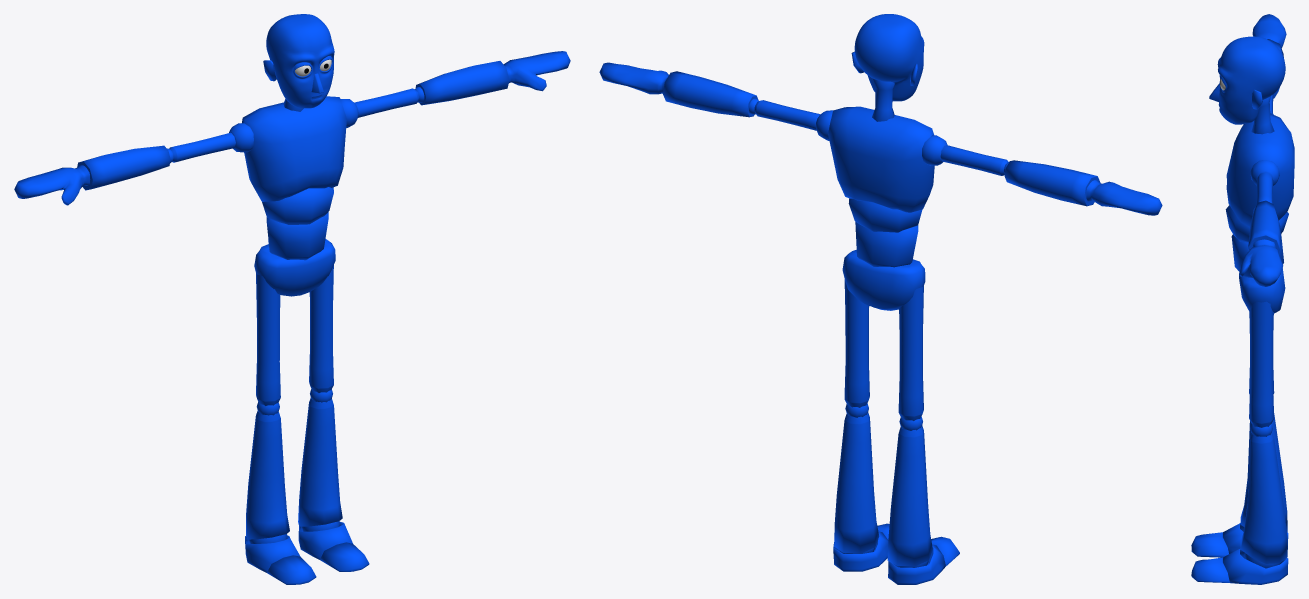
Rendered from NormanMittens.FBX.
The picture shows the model from 3 angles, left to right: view 1: azimuth 30°, elevation 25°; view 2: azimuth 150°, elevation 25°; view 3: azimuth 270°, elevation 25°; orthographic projection. The views are drawn at different scales.
Visible parts, largest first — view 1: srfBind_Cn_SpineC, srfBind_Cn_Head, srfBind_Lf_LegC, srfBind_Rt_LegC, srfBind_Rt_LegA, srfBind_Cn_Pelvis, srfBind_Lf_LegA, srfBind_Lf_ArmD, srfBind_Rt_ArmD, srfBind_Cn_SpineA, srfBind_Cn_SpineB, Hand_L001 (+7 smaller); view 2: srfBind_Cn_SpineC, srfBind_Lf_LegC, srfBind_Rt_LegC, srfBind_Cn_Head, srfBind_Cn_Pelvis, srfBind_Rt_LegA, srfBind_Lf_ArmD, srfBind_Lf_LegA, srfBind_Rt_ArmD, srfBind_Cn_SpineA, Hand_L001, srfBind_Cn_SpineB (+6 smaller); view 3: srfBind_Cn_SpineC, srfBind_Lf_LegC, srfBind_Cn_Head, srfBind_Lf_LegA, srfBind_Lf_FootA, Hand_L, srfBind_Lf_ArmD, srfBind_Cn_Pelvis, srfBind_Lf_FootB, srfBind_Lf_FootB 1, srfBind_Rt_LegC, Hand_L001 (+9 smaller).
Part boxes in pixels (x1,y1,x2,y2): srfBind_Cn_SpineC: (242, 96, 346, 201); srfBind_Cn_Head: (266, 14, 334, 108); srfBind_Lf_LegC: (298, 397, 342, 526); srfBind_Rt_LegC: (246, 411, 289, 539); srfBind_Rt_LegA: (256, 271, 280, 405); srfBind_Cn_Pelvis: (254, 239, 335, 296); srfBind_Lf_LegA: (309, 265, 333, 392); srfBind_Lf_ArmD: (415, 61, 509, 105); srfBind_Rt_ArmD: (77, 145, 170, 190); srfBind_Cn_SpineA: (266, 212, 328, 260); srfBind_Cn_SpineB: (262, 187, 333, 224); Hand_L001: (14, 165, 90, 205); srfBind_Cn_SpineC: (828, 106, 934, 212); srfBind_Lf_LegC: (834, 412, 879, 553); srfBind_Rt_LegC: (887, 425, 932, 566); srfBind_Cn_Head: (854, 14, 924, 101); srfBind_Cn_Pelvis: (842, 250, 925, 310); srfBind_Rt_LegA: (898, 284, 923, 420); srfBind_Lf_ArmD: (663, 71, 758, 117); srfBind_Lf_LegA: (844, 279, 869, 407); srfBind_Rt_ArmD: (1004, 160, 1100, 206); srfBind_Cn_SpineA: (855, 222, 918, 267); Hand_L001: (1086, 180, 1162, 215); srfBind_Cn_SpineB: (848, 198, 922, 232); srfBind_Cn_SpineC: (1226, 113, 1294, 226); srfBind_Lf_LegC: (1240, 432, 1287, 563); srfBind_Cn_Head: (1217, 36, 1285, 124); srfBind_Lf_LegA: (1249, 301, 1274, 427); srfBind_Lf_FootA: (1223, 548, 1288, 584); Hand_L: (1239, 239, 1283, 286); srfBind_Lf_ArmD: (1248, 200, 1281, 252); srfBind_Cn_Pelvis: (1239, 268, 1285, 313); srfBind_Lf_FootB: (1191, 557, 1229, 582); srfBind_Lf_FootB 1: (1191, 532, 1228, 557); srfBind_Rt_LegC: (1240, 413, 1287, 532); Hand_L001: (1252, 14, 1286, 47).
Bounding box in the file's own units: 234 × 217 × 38.99.
